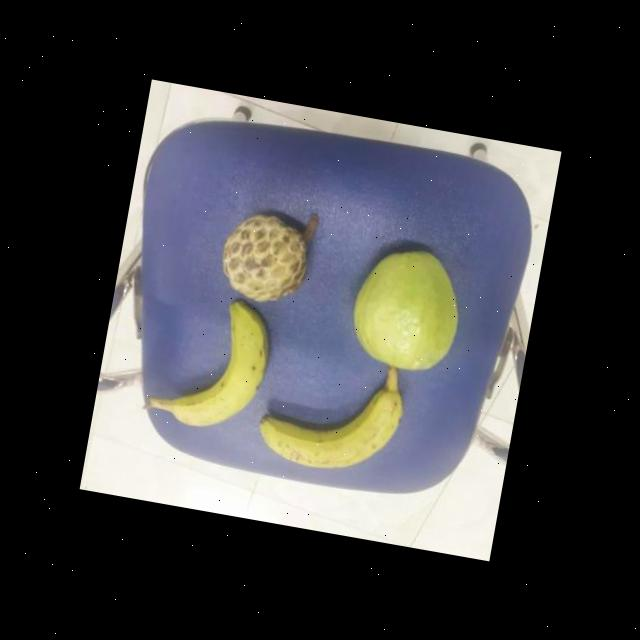Sakya fruit: (210, 206, 318, 310)
banana: (250, 366, 410, 486), (169, 289, 282, 439)
guava: (342, 238, 472, 378)
